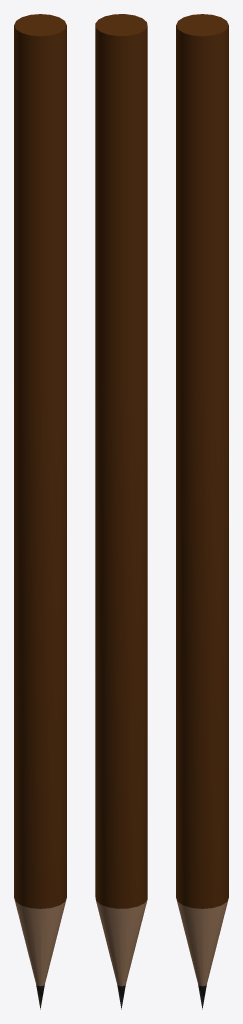
File: olowek2.fbx
3 views of the same model, side by side, from view 1: azimuth 90°, elevation 25°; view 2: azimuth 150°, elevation 25°; view 3: azimuth 270°, elevation 25° (orthographic).
Visible parts, largest first — view 1: OLOWEK2; view 2: OLOWEK2; view 3: OLOWEK2.
Boxes of the visible parts, bbox=[...] form: OLOWEK2: bbox=[14, 14, 66, 1009]; OLOWEK2: bbox=[95, 14, 147, 1009]; OLOWEK2: bbox=[176, 14, 228, 1009].
Size of the model in its own units: 9.98 by 9.98 by 205.
